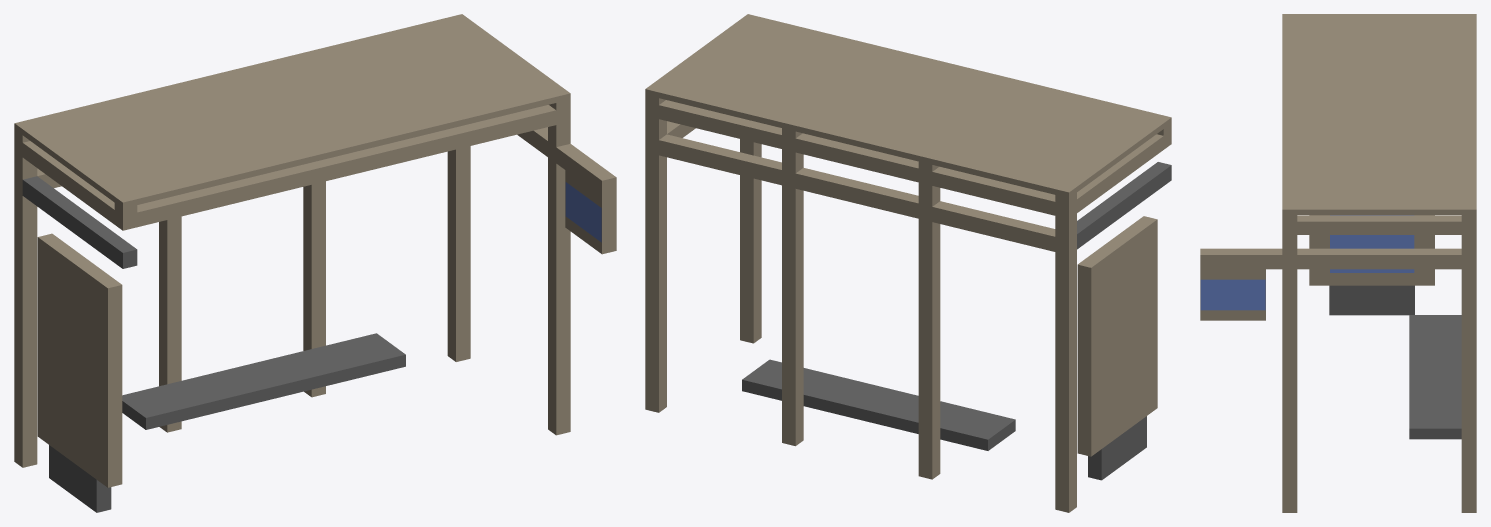
File: busstation_city_oldenburg.fbx
3 renders of one model, left to right at view 1: azimuth 30°, elevation 25°; view 2: azimuth 150°, elevation 25°; view 3: azimuth 270°, elevation 25°, orthographic. The views are drawn at different scales.
Visible parts, largest first — view 1: Cube.034; view 2: Cube.034; view 3: Cube.034.
Part boxes in pixels (x1=…): Cube.034: x1=14, y1=14, x2=616, y2=512; Cube.034: x1=645, y1=14, x2=1171, y2=512; Cube.034: x1=1200, y1=14, x2=1476, y2=512.
Size of the model in its own units: 155 by 112 by 92.5.
